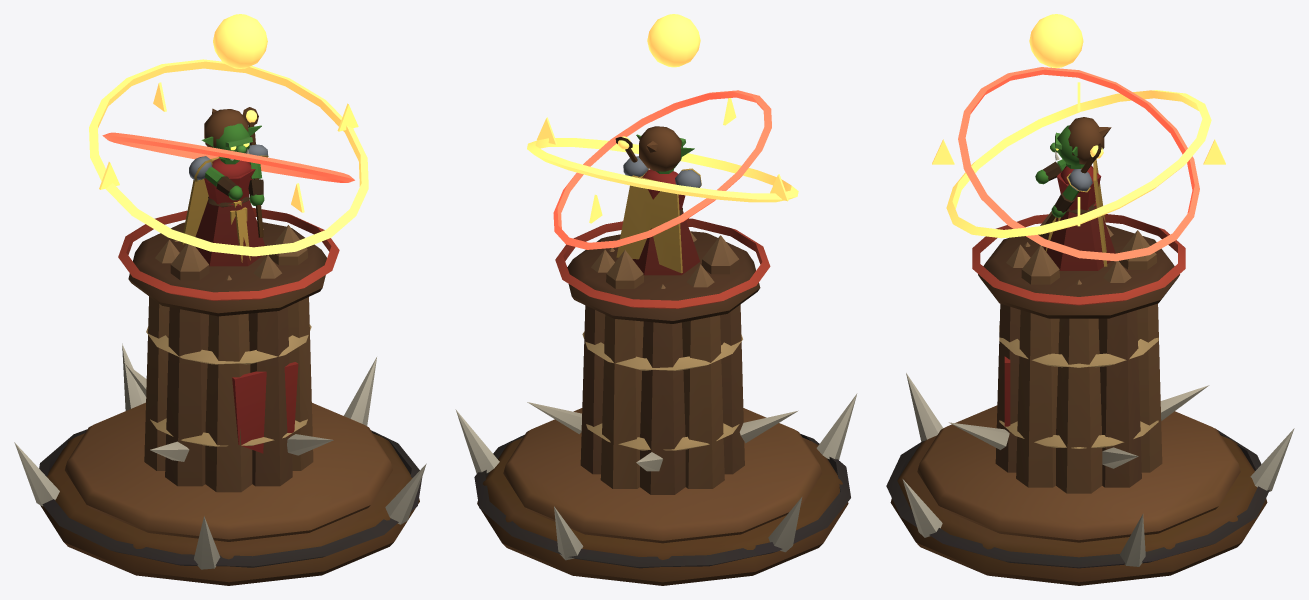
File: horde_9.glb
3 views of the same model, side by side, from view 1: azimuth 30°, elevation 25°; view 2: azimuth 150°, elevation 25°; view 3: azimuth 270°, elevation 25° (orthographic). The views are drawn at different scales.
Visible parts, largest first — view 1: horde_9_peint, Anneaux_lueur, Buste_peint, AnneauB, OrbeMagique, Crane_peint, BrasG_peint, BrasD_peint; view 2: horde_9_peint, Buste_peint, Anneaux_lueur, AnneauB, OrbeMagique, Crane_peint; view 3: horde_9_peint, Anneaux_lueur, AnneauB, Buste_peint, OrbeMagique, Crane_peint, BrasD_peint.
Part boxes in pixels (left/top/right/bottom): horde_9_peint: left=14, top=207, right=426, bottom=585; Anneaux_lueur: left=89, top=59, right=368, bottom=256; Buste_peint: left=181, top=157, right=264, bottom=266; AnneauB: left=102, top=132, right=354, bottom=182; OrbeMagique: left=213, top=14, right=267, bottom=68; Crane_peint: left=201, top=108, right=261, bottom=160; BrasG_peint: left=189, top=156, right=242, bottom=200; BrasD_peint: left=245, top=144, right=268, bottom=206; horde_9_peint: left=455, top=218, right=857, bottom=585; Buste_peint: left=616, top=169, right=700, bottom=275; Anneaux_lueur: left=527, top=98, right=798, bottom=223; AnneauB: left=553, top=90, right=771, bottom=249; OrbeMagique: left=647, top=14, right=700, bottom=67; Crane_peint: left=636, top=126, right=694, bottom=171; horde_9_peint: left=886, top=211, right=1294, bottom=585; Anneaux_lueur: left=932, top=82, right=1225, bottom=238; AnneauB: left=958, top=67, right=1199, bottom=261; Buste_peint: left=1044, top=159, right=1115, bottom=270; OrbeMagique: left=1029, top=14, right=1083, bottom=68; Crane_peint: left=1050, top=117, right=1111, bottom=165; BrasD_peint: left=1051, top=169, right=1092, bottom=217.
Size of the model in its own units: 0.9055 by 1.2 by 0.9026.
